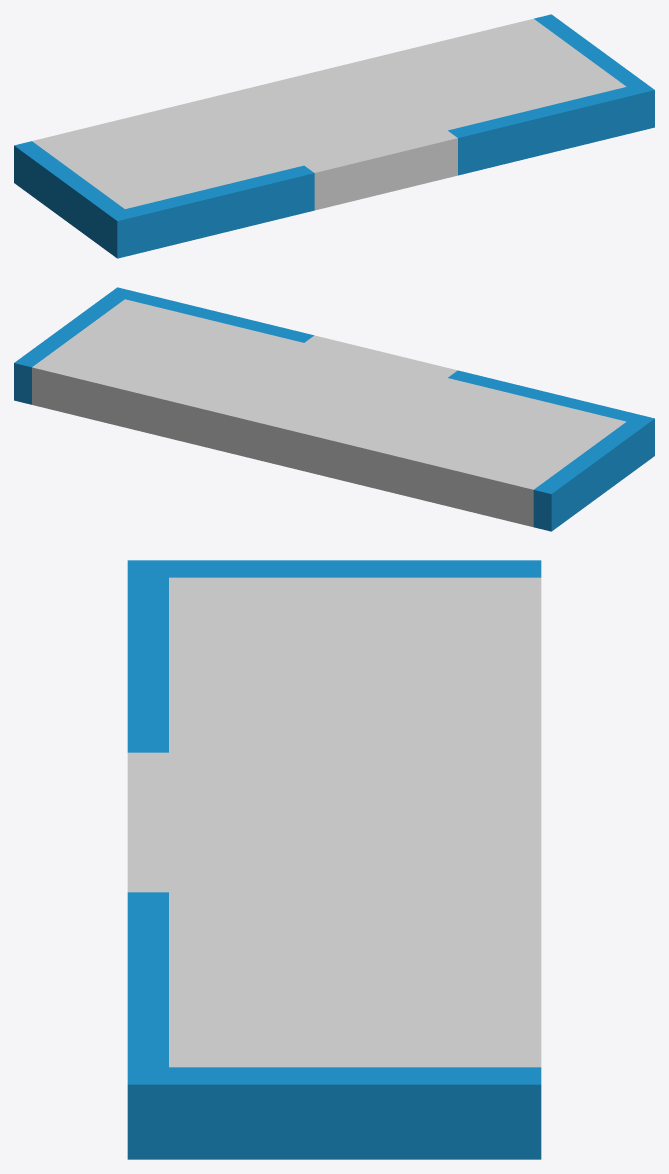
Rendered from DefaultToWideEdgy.fbx.
The picture shows the model from 3 angles, top to bottom: view 1: azimuth 30°, elevation 25°; view 2: azimuth 150°, elevation 25°; view 3: azimuth 270°, elevation 25°; orthographic projection. The views are drawn at different scales.
Visible parts, largest first — view 1: Matrix_1; view 2: Matrix_1; view 3: Matrix_1.
Part boxes in pixels (x1=…): Matrix_1: x1=14, y1=14, x2=654, y2=258; Matrix_1: x1=14, y1=287, x2=654, y2=531; Matrix_1: x1=127, y1=560, x2=541, y2=1159.
Size of the model in its own units: 30 by 2 by 10.
